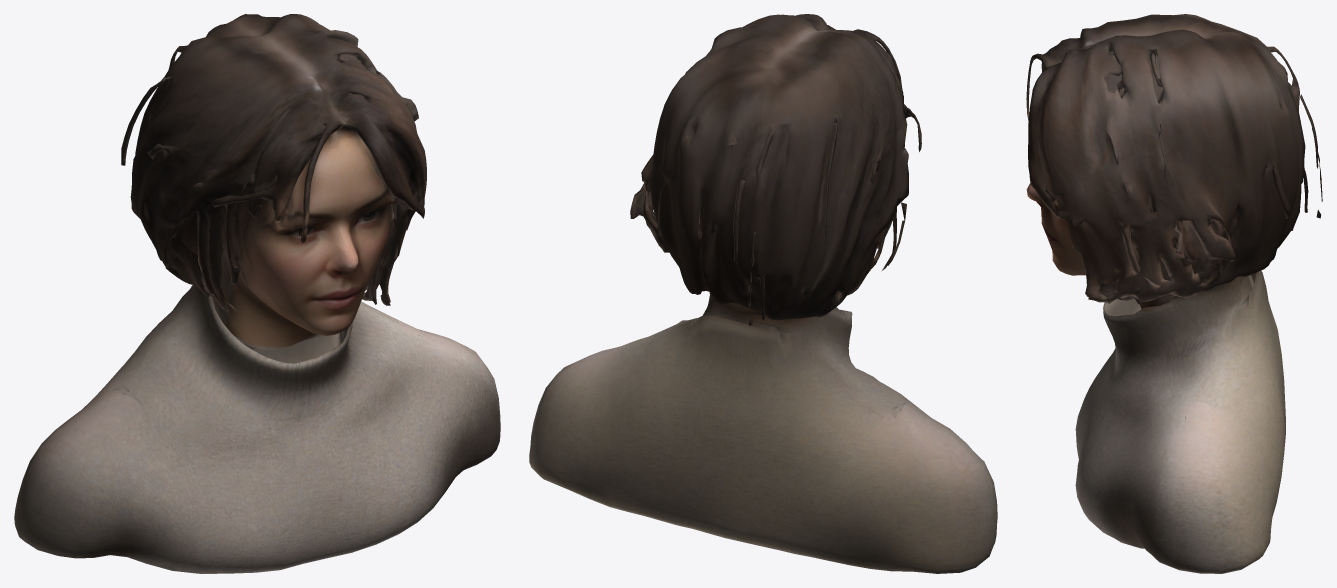
File: modelwoman.glb
3 renders of one model, left to right at view 1: azimuth 30°, elevation 25°; view 2: azimuth 150°, elevation 25°; view 3: azimuth 270°, elevation 25°, orthographic. The views are drawn at different scales.
Size of the model in its own units: 1.94 by 2 by 1.14.
1 material, 1 textured.
